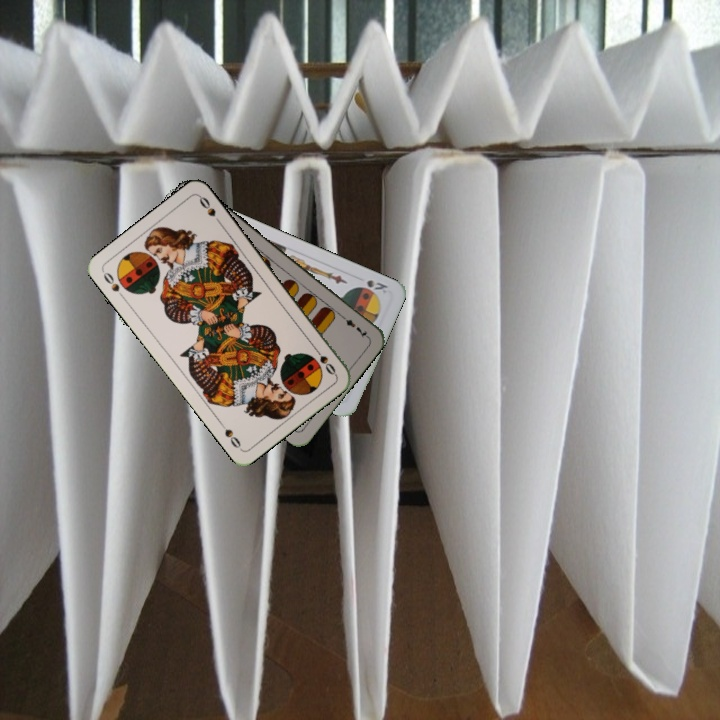E7: (336, 310, 370, 340)
SK: (363, 276, 391, 296)
SO: (309, 343, 339, 378), (99, 268, 128, 302)
